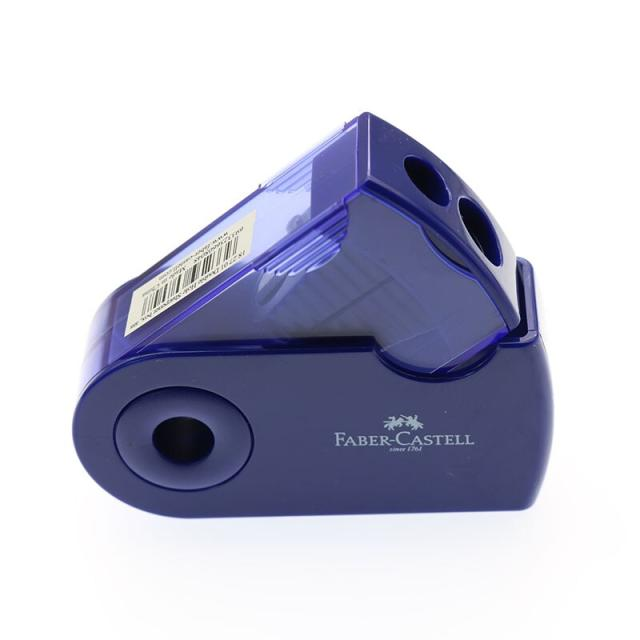pencil_sharpener: (62, 124, 574, 532)
